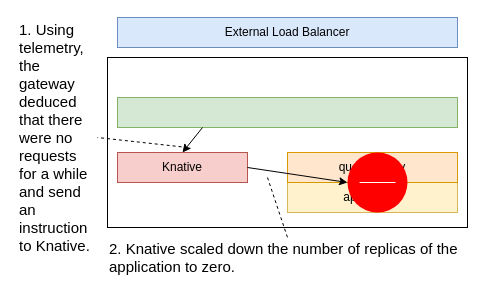
Image size: 485x295. Some labels were removed from this diagram. The box of each missing label's shape, as (x1, y1, x2, y2) in pixels:
API Gateway: (116, 96, 458, 128)
Kubernetes cluster: (106, 56, 468, 228)
